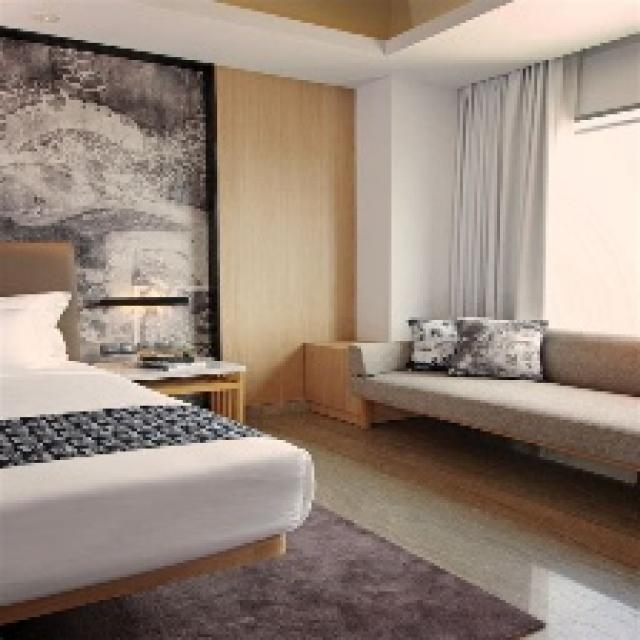Bed: (0, 237, 314, 637)
